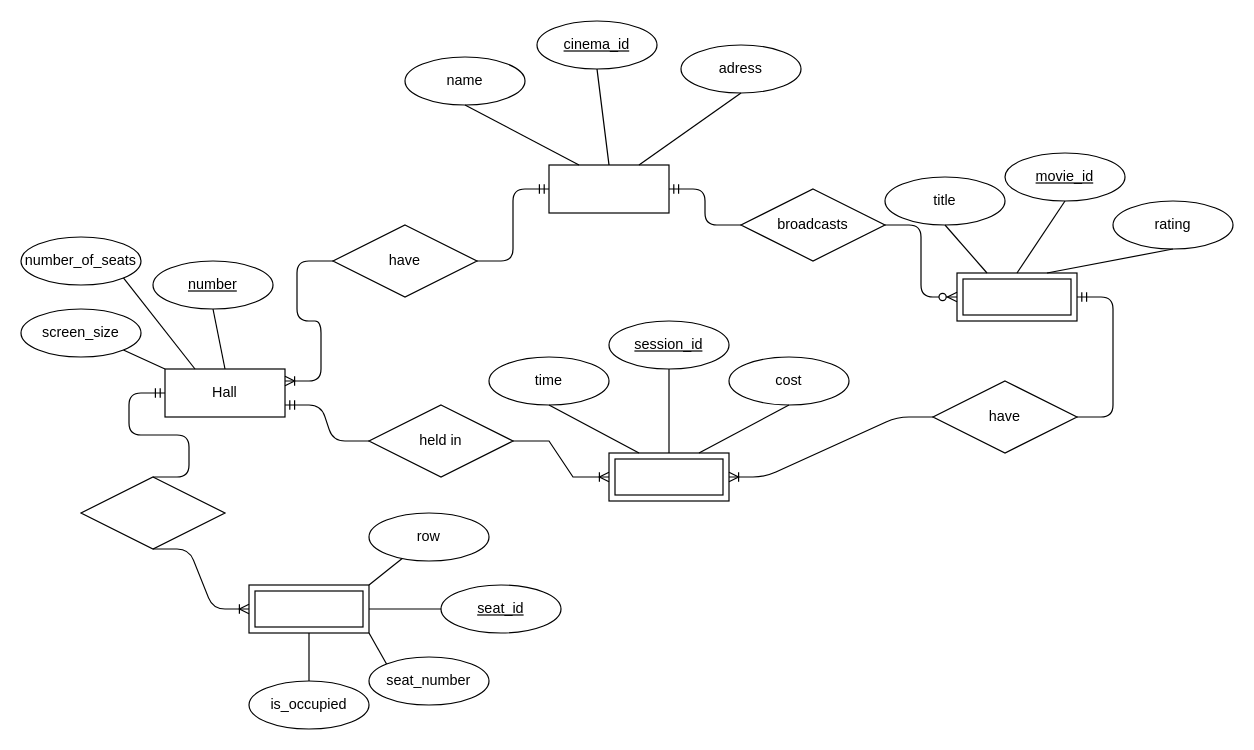
This 1254x750 diagram has some shape labels left out. Each missing label, with the centre of its shape:
"Cinema" goes at [608,188].
"consist of" goes at [152,512].
"Movie" goes at [1016,296].
"Seat" goes at [308,608].
"Session" goes at [668,476].
